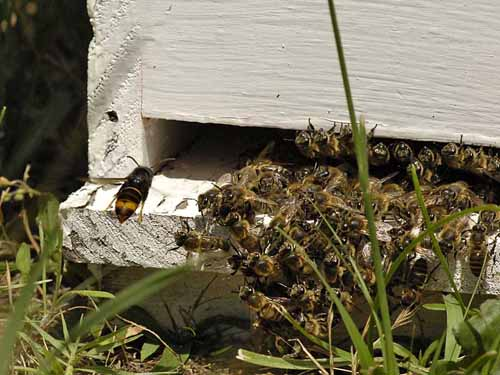bee: (226, 214, 328, 282), (395, 182, 498, 223), (302, 163, 384, 212), (232, 162, 300, 215), (401, 258, 435, 318), (232, 286, 283, 322), (294, 129, 346, 158), (464, 225, 491, 278), (171, 229, 227, 251), (286, 286, 319, 322), (464, 147, 500, 177), (333, 214, 382, 236), (195, 191, 228, 213), (439, 140, 463, 170), (396, 138, 415, 167), (368, 140, 388, 163)
hornet: (110, 161, 165, 229)
